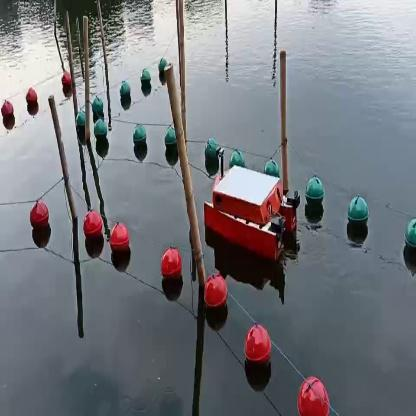green_buoy: (348, 194, 370, 232), (402, 216, 415, 265), (306, 176, 323, 212), (132, 122, 148, 151), (206, 140, 218, 168), (165, 130, 177, 156), (263, 158, 280, 174), (230, 147, 244, 165), (74, 111, 84, 135), (93, 96, 104, 114), (140, 70, 150, 88), (97, 120, 105, 141), (120, 85, 129, 102), (158, 59, 166, 76)
red_buoy: (245, 320, 270, 364), (300, 376, 326, 414), (111, 220, 129, 258), (84, 210, 104, 244), (161, 249, 182, 281), (204, 277, 224, 306), (30, 200, 48, 230), (1, 100, 13, 124), (60, 75, 72, 96), (27, 86, 37, 111)
